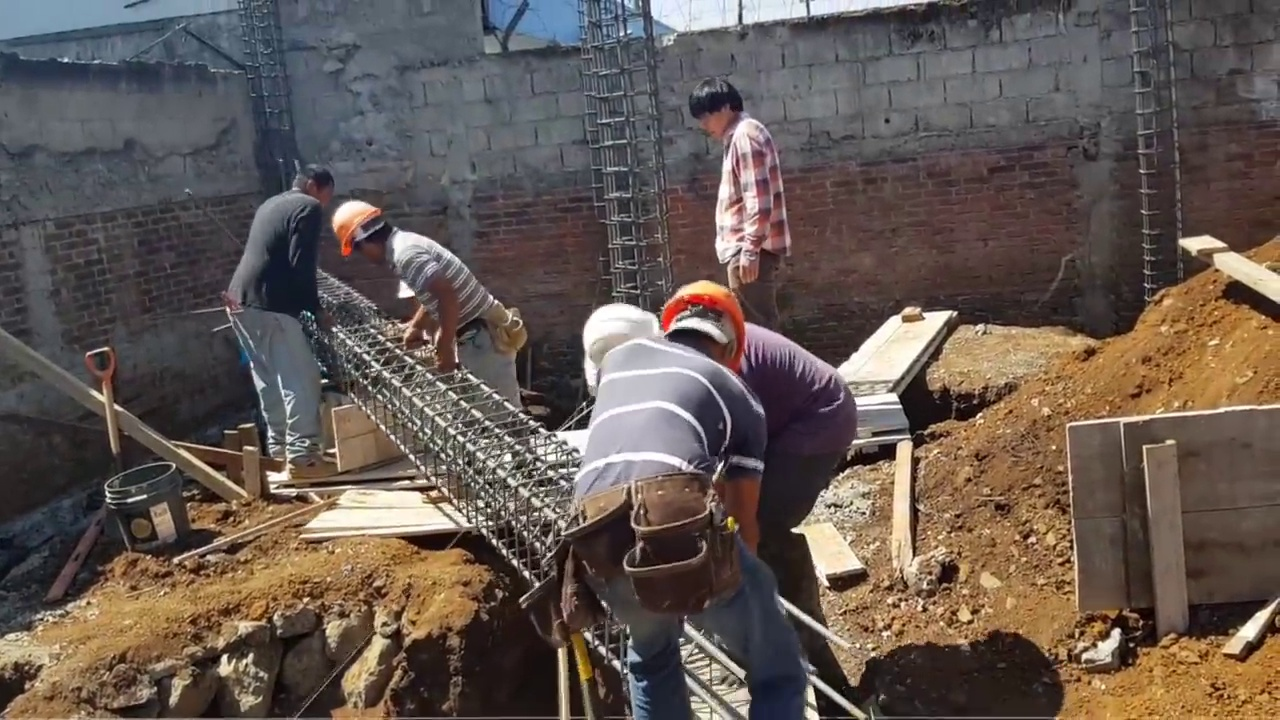helmet: (661, 281, 746, 369), (582, 306, 660, 386), (331, 199, 378, 256)
helmet-off: (689, 76, 743, 139), (290, 163, 336, 207)
helmet-on: (662, 281, 747, 374), (331, 196, 395, 265)
person: (331, 195, 523, 412), (221, 165, 338, 482), (581, 304, 860, 427), (586, 281, 767, 427), (690, 75, 789, 333)
